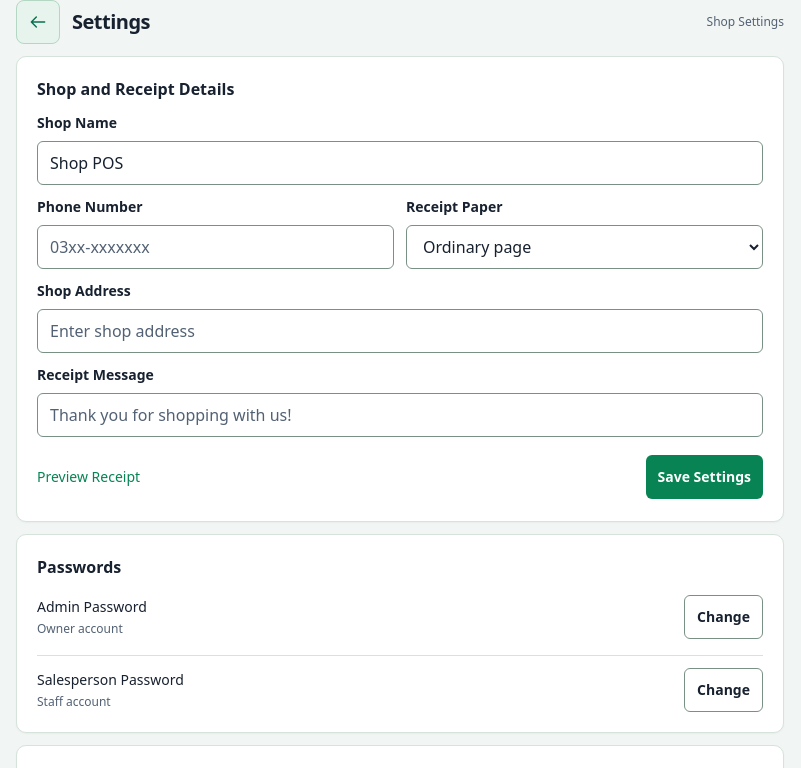
Test: public browser-local shop settings › reports blocked storage without claiming preferences were saved
Replace the text in the field labelled "Shop Name" with "Cannot save" at (400, 163), box [37,141,763,185]
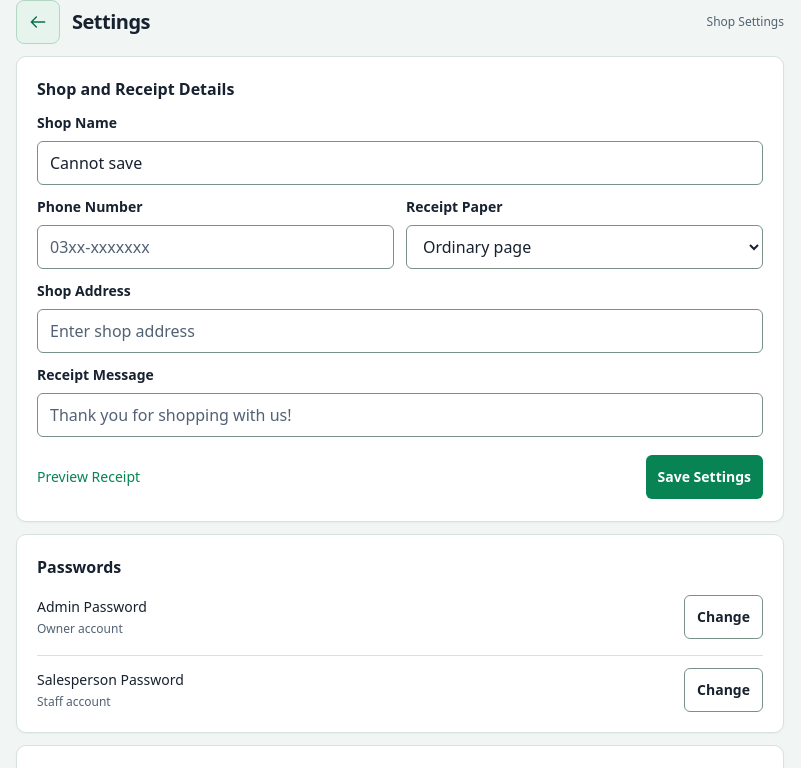
Click the button "Save Settings".
click(704, 477)  # box [646,455,763,499]
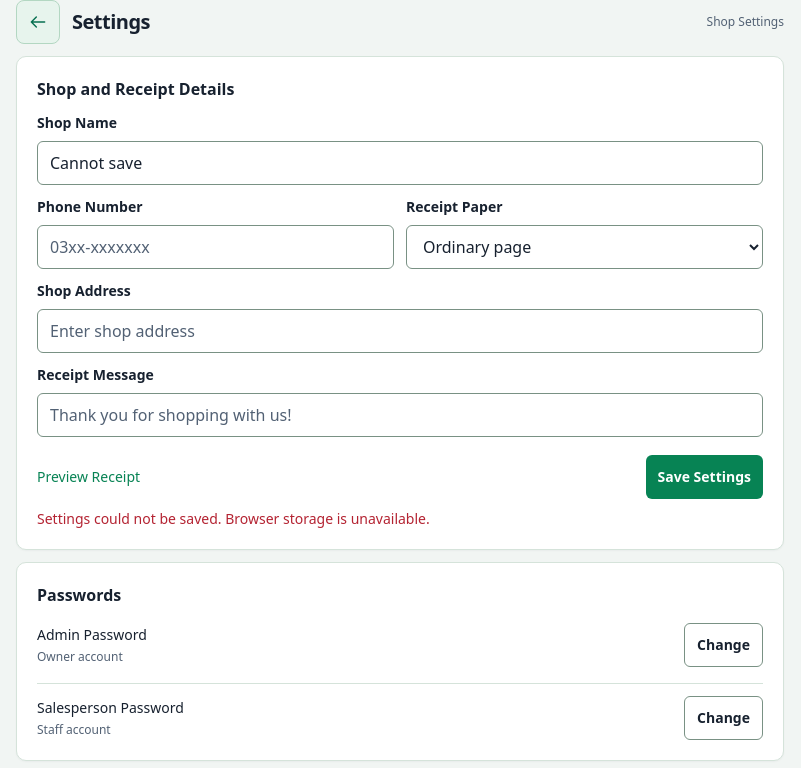
Expected: the message shows "could not be saved", [37,509,430,528]
